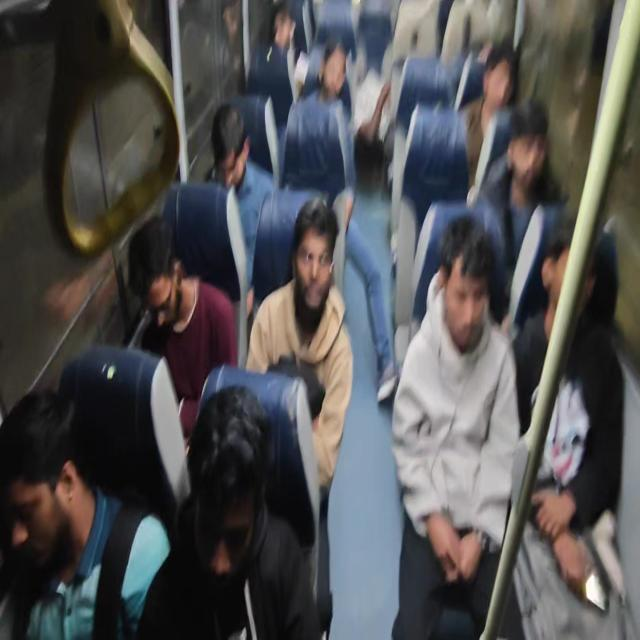person: (0, 393, 115, 601), (83, 192, 201, 366), (192, 362, 278, 548), (412, 205, 497, 370), (277, 212, 352, 371), (215, 76, 261, 216), (354, 43, 401, 157), (536, 218, 577, 335), (511, 104, 554, 192), (475, 42, 513, 128), (265, 0, 304, 68), (318, 33, 344, 104), (465, 33, 488, 76)
